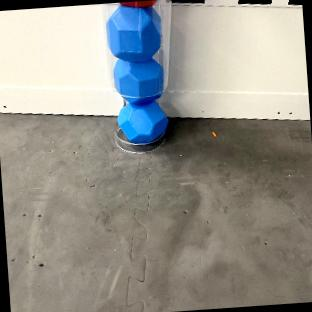V5_BLUE: (105, 4, 161, 59), (115, 99, 167, 143), (112, 57, 163, 98)
